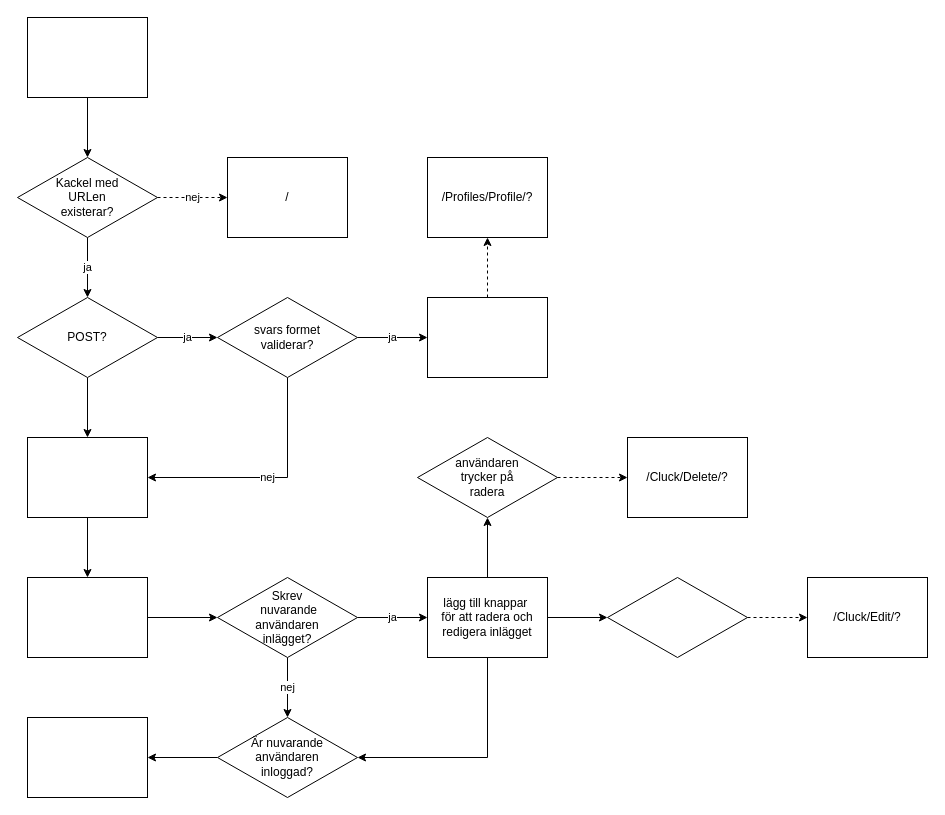
Some shapes in this 945 by 815 pixel diagram are drawn without their labels. Here are the shapes that lost their labels. From the top down, the centre of each, then its label:
At pixel 87 57: "/Cluck/?".
At pixel 487 337: "Skapa nytt inlägg".
At pixel 87 477: "Skriv ut eventuellt svar till inlägget".
At pixel 87 617: "Skriv ut inlägget".
At pixel 677 617: "användaren trycker på redigera".
At pixel 87 757: "lägg till ett form för att göra ett svar".
